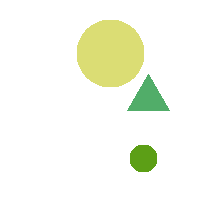circle: (77, 20, 143, 86), (130, 145, 156, 171)
triangle: (127, 74, 169, 110)
